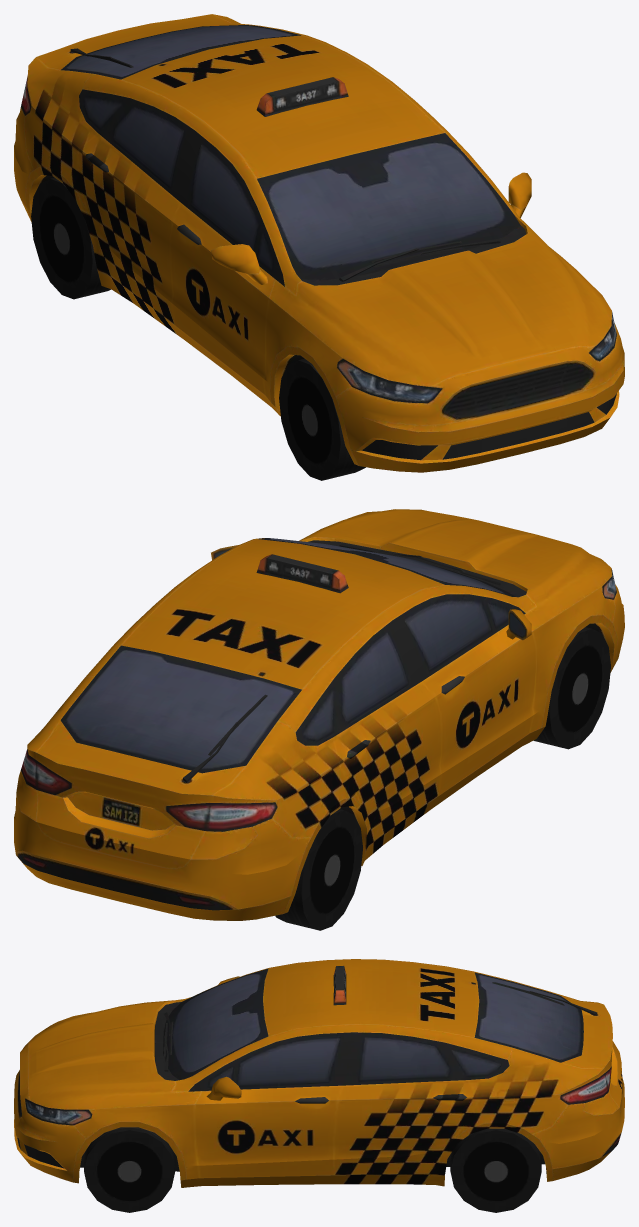
The model's file is taxi_mondeo.glb.
3 views of the same model, one above another, from view 1: azimuth 30°, elevation 25°; view 2: azimuth 150°, elevation 25°; view 3: azimuth 270°, elevation 25° (orthographic). The views are drawn at different scales.
Parts seen in each view (by area): view 1: Object_2; view 2: Object_2; view 3: Object_2.
Boxes of the visible parts, x1,y1,x2,y2 form: Object_2: (14,14,624,480); Object_2: (14,509,624,930); Object_2: (14,959,624,1212).
Size of the model in its own units: 85.68 by 65.17 by 194.
Materials: 1 (1 with a texture image).
